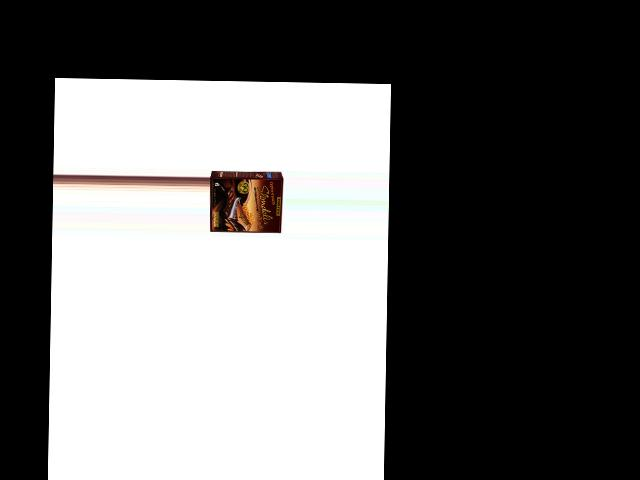chocolate: (208, 167, 284, 239)
